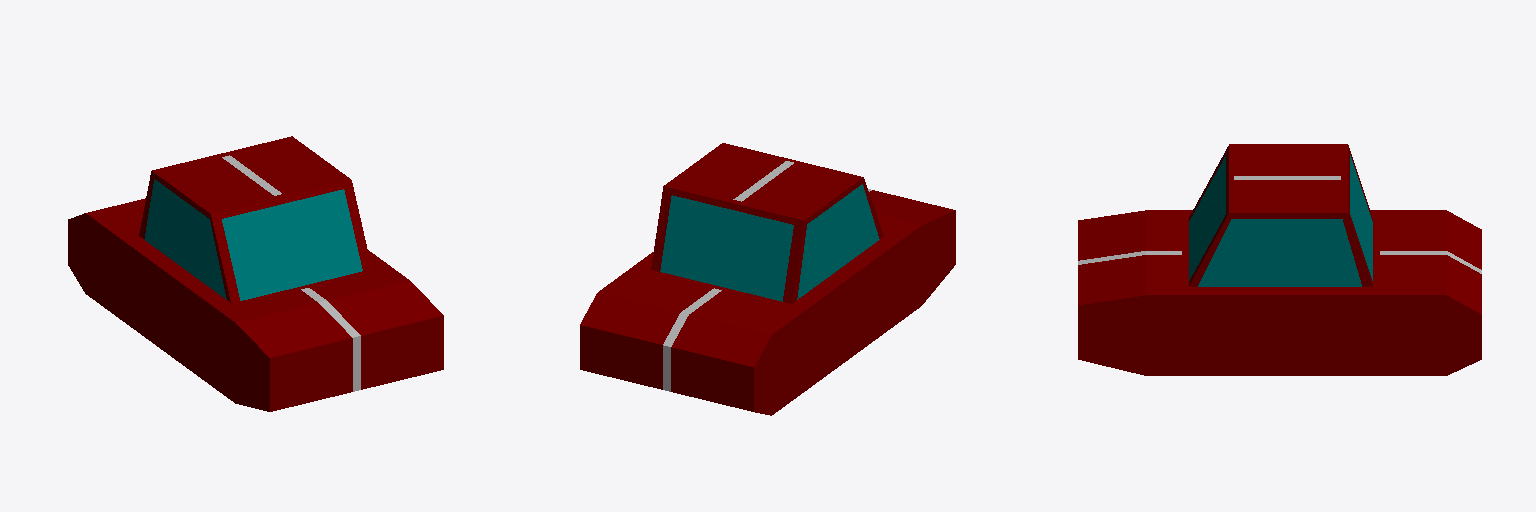
3 renders of one model, left to right at view 1: azimuth 30°, elevation 25°; view 2: azimuth 150°, elevation 25°; view 3: azimuth 270°, elevation 25°, orthographic.
Visible parts, largest first — view 1: Cube; view 2: Cube; view 3: Cube.
Boxes of the visible parts, x1,y1,x2,y2 form: Cube: [68, 136, 443, 411]; Cube: [580, 143, 955, 415]; Cube: [1078, 144, 1481, 375].
Size of the model in its own units: 1.68 by 1.43 by 3.37.
1 materials, 1 textured.